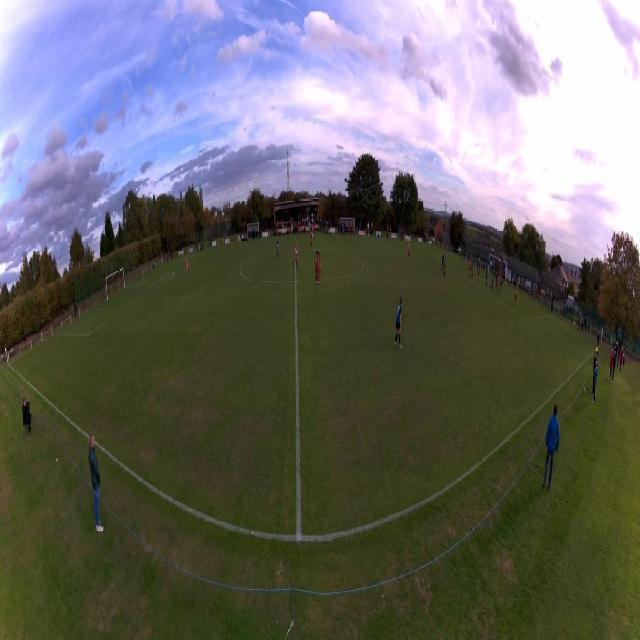ball: (508, 296, 510, 300)
player: (394, 296, 404, 348), (315, 251, 322, 285), (293, 240, 298, 267), (441, 252, 445, 276), (489, 274, 494, 293), (499, 280, 504, 294), (408, 243, 411, 264), (276, 236, 279, 257), (186, 256, 189, 276), (486, 266, 489, 286), (514, 288, 517, 306), (471, 260, 474, 278), (468, 261, 471, 278), (444, 256, 446, 277), (311, 228, 313, 246), (497, 276, 499, 294), (499, 270, 502, 282), (495, 273, 497, 289), (478, 267, 480, 283), (476, 262, 478, 277), (445, 250, 446, 259)
